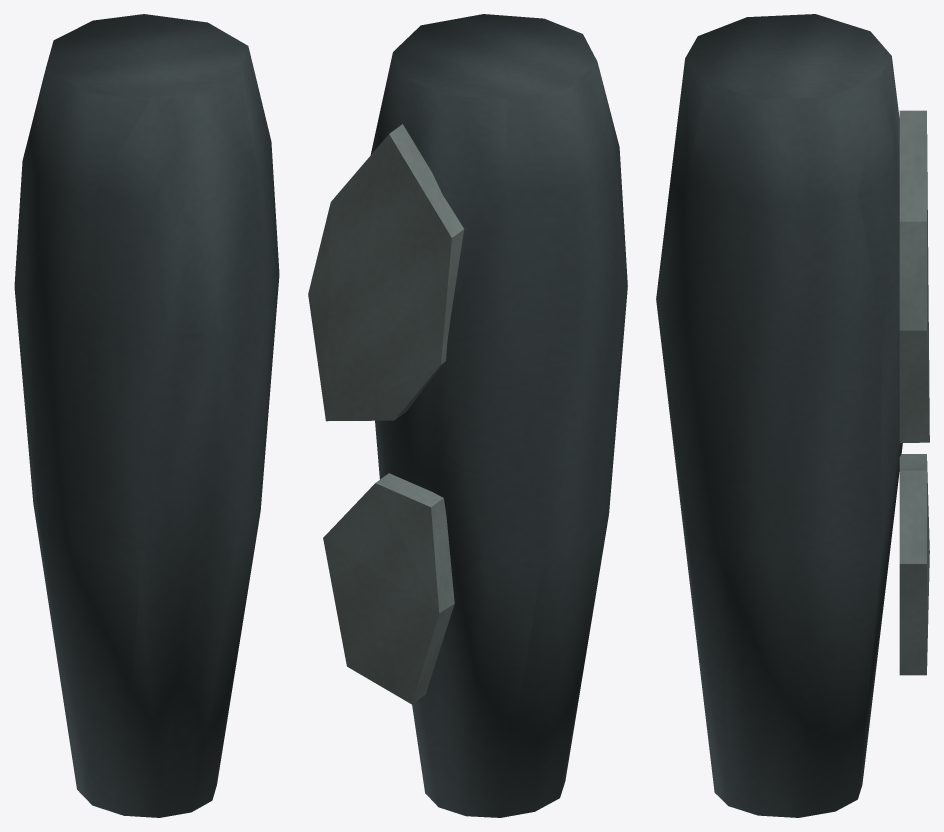
The model's file is forearm_l_lod1.glb.
The picture shows the model from 3 angles, left to right: view 1: azimuth 30°, elevation 25°; view 2: azimuth 150°, elevation 25°; view 3: azimuth 270°, elevation 25°; orthographic projection.
Parts seen in each view (by area): view 1: dormin_forearm_l_LOD1; view 2: dormin_forearm_l_LOD1; view 3: dormin_forearm_l_LOD1.
Part boxes in pixels (x1=…): dormin_forearm_l_LOD1: x1=14, y1=14, x2=279, y2=817; dormin_forearm_l_LOD1: x1=308, y1=14, x2=627, y2=817; dormin_forearm_l_LOD1: x1=656, y1=14, x2=929, y2=817.
Bounding box in the file's own units: 1.42 × 4.25 × 1.44.
Materials: 2 (2 with a texture image).
